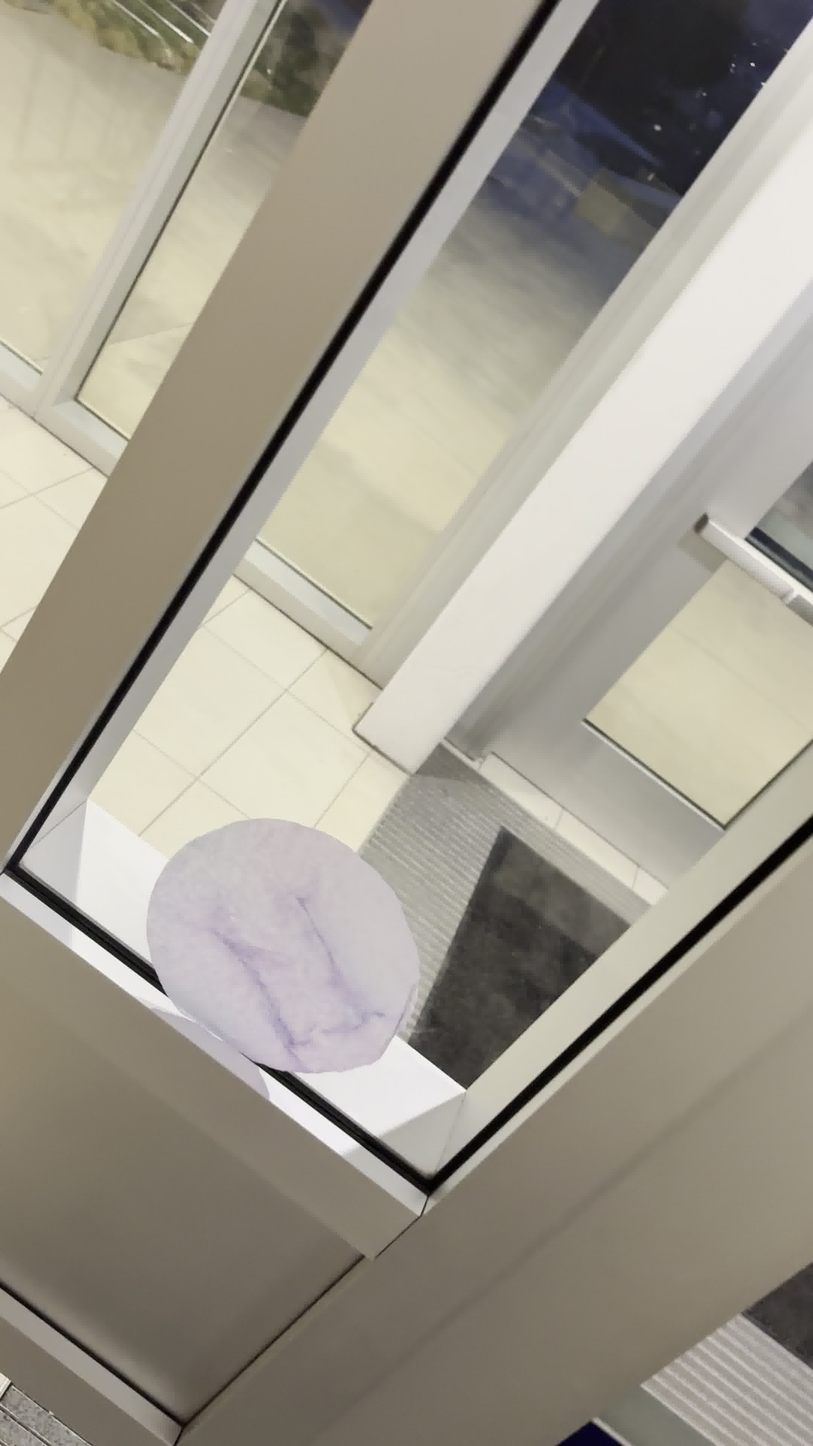Target: (148, 824, 420, 1077)
